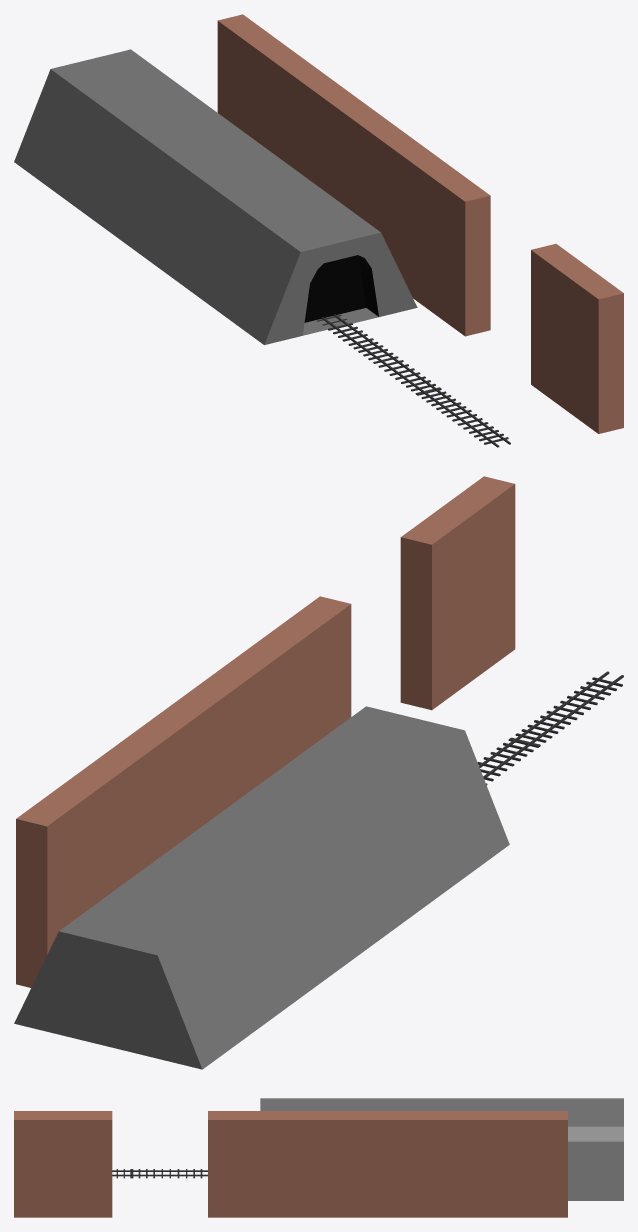
The model's file is TrackTube.fbx.
The picture shows the model from 3 angles, top to bottom: view 1: azimuth 30°, elevation 25°; view 2: azimuth 150°, elevation 25°; view 3: azimuth 270°, elevation 25°; orthographic projection. The views are drawn at different scales.
Parts seen in each view (by area): view 1: nurbsPlane2; view 2: nurbsPlane2; view 3: nurbsPlane2.
Boxes of the visible parts, box(x1,y1,x2,y2) form: nurbsPlane2: box(14, 14, 623, 447); nurbsPlane2: box(14, 476, 623, 1069); nurbsPlane2: box(14, 1098, 623, 1217).
Bounding box in the file's own units: 93.92 × 63.5 × 358.
